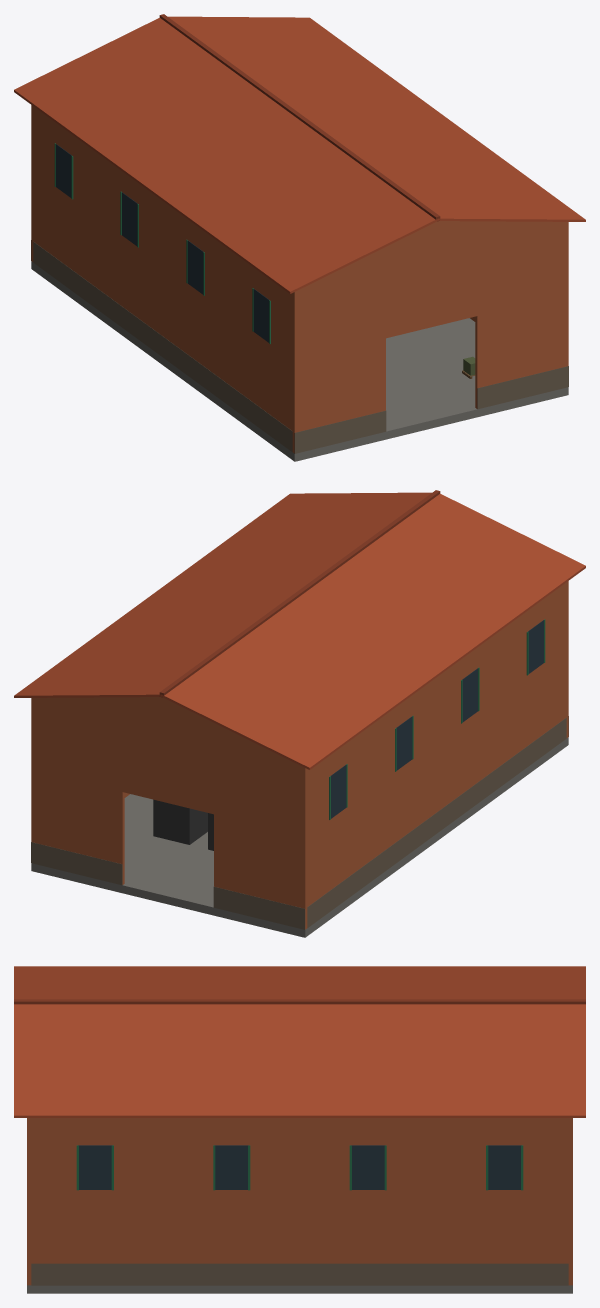
Rendered from casa_moenda_a.glb.
3 renders of one model, top to bottom at view 1: azimuth 30°, elevation 25°; view 2: azimuth 150°, elevation 25°; view 3: azimuth 270°, elevation 25°, orthographic. The views are drawn at different scales.
Parts seen in each view (by area): view 1: casa_moenda_a; view 2: casa_moenda_a; view 3: casa_moenda_a.
Boxes of the visible parts, x1,y1,x2,y2 form: casa_moenda_a: [14, 14, 585, 461]; casa_moenda_a: [14, 490, 585, 937]; casa_moenda_a: [14, 966, 585, 1293].
Size of the model in its own units: 16.2 by 11.32 by 26.2.
